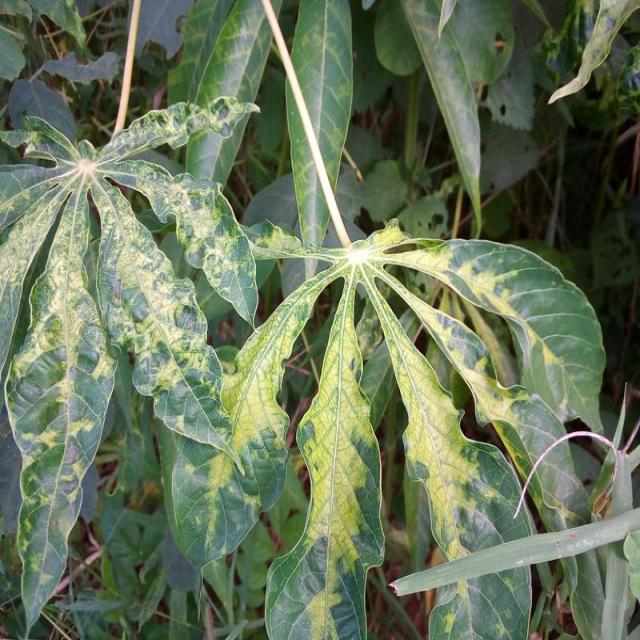cassava leaf: (2, 1, 638, 638), (265, 265, 386, 638)
